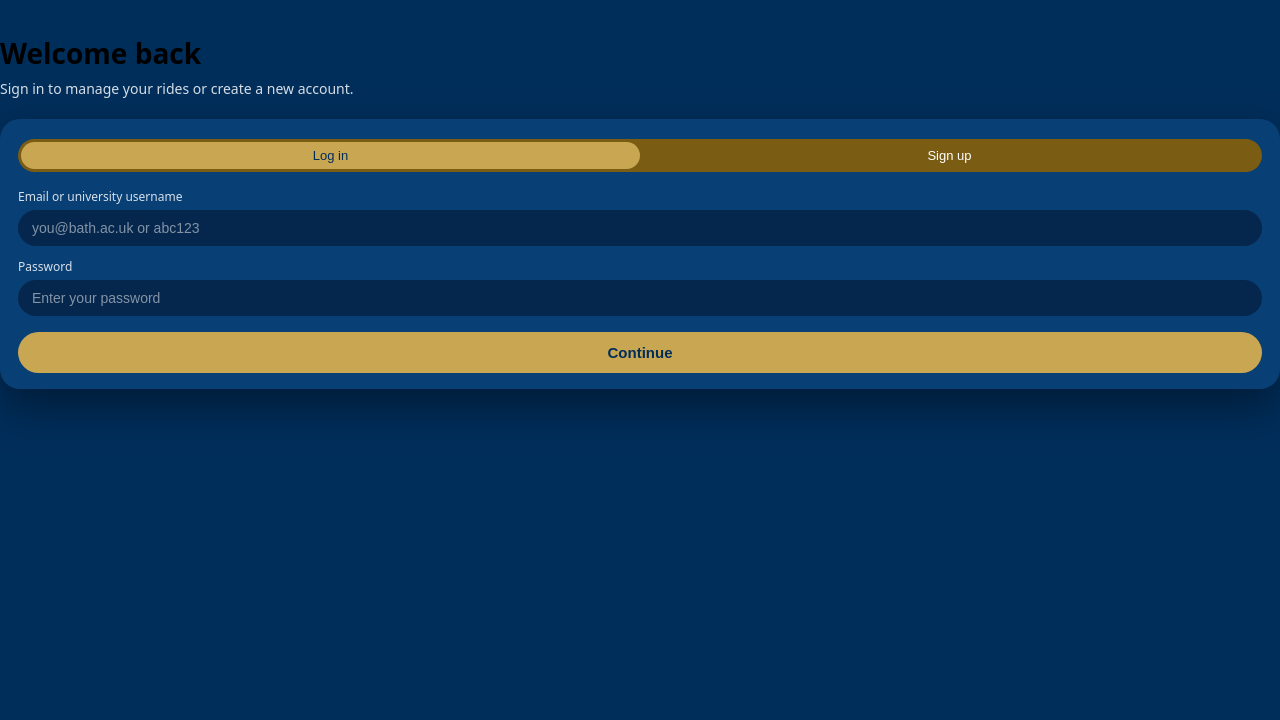
LoginPage Component › toggles to signup mode and displays correct fields
Click the button "Sign up" at (950, 156), box [640,142,1259,169]
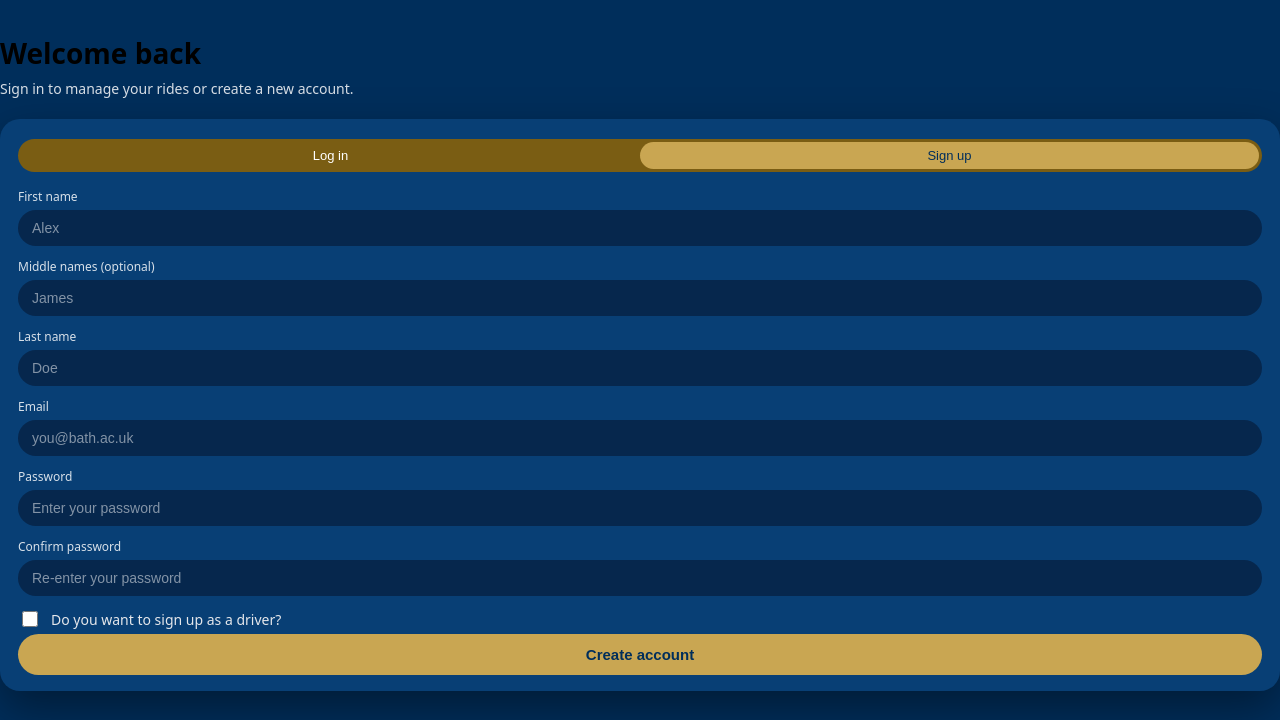
Now the field labelled "First name" is shown, box [18,210,1262,246]
Now the field labelled "Last name" is shown, box [18,350,1262,386]
Now the password field labelled "Confirm password" is shown, box [18,560,1262,596]
